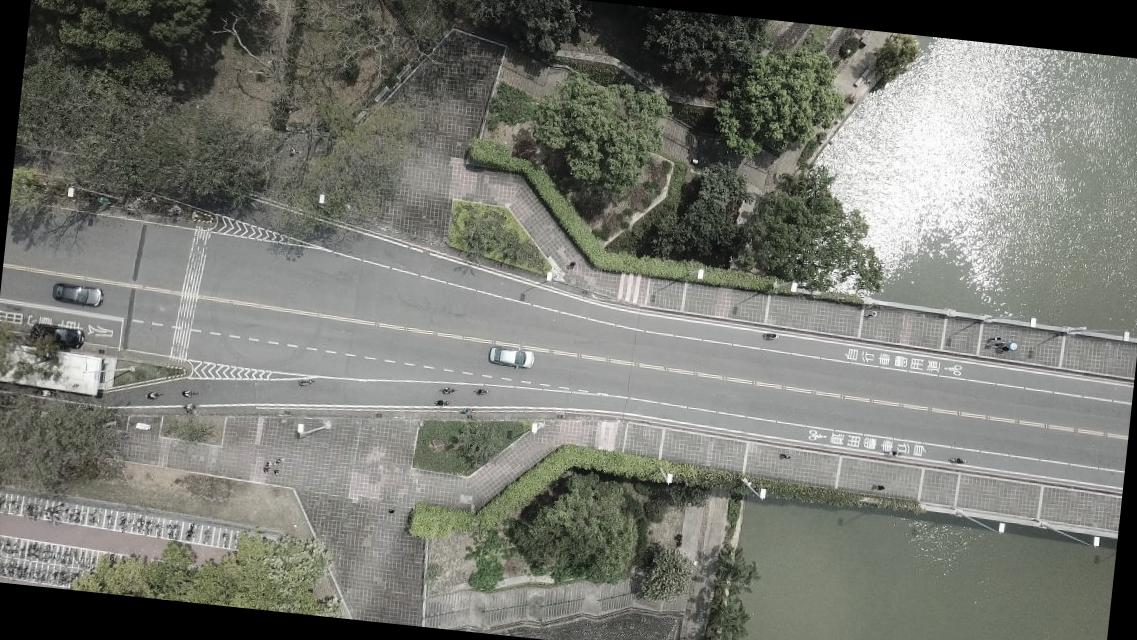vehicle: (28, 322, 84, 351), (51, 281, 104, 308), (488, 344, 536, 370)
